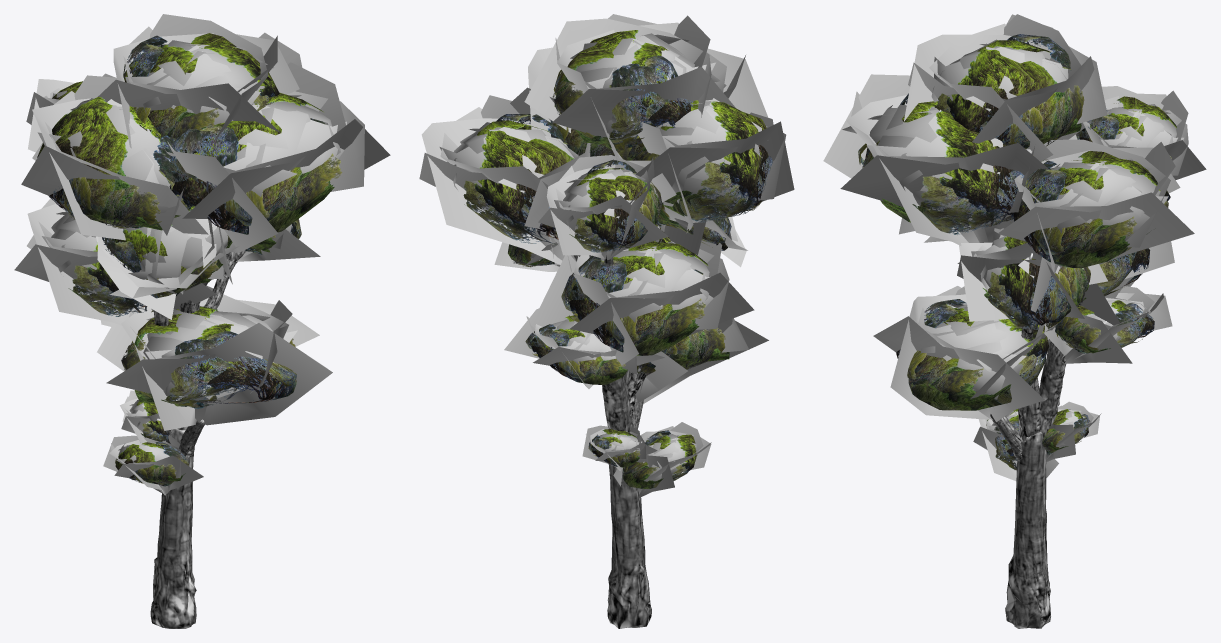
The model's file is ETP_TreePinus_00_OP.fbx.
3 views of the same model, side by side, from view 1: azimuth 30°, elevation 25°; view 2: azimuth 150°, elevation 25°; view 3: azimuth 270°, elevation 25° (orthographic). The views are drawn at different scales.
Visible parts, largest first — view 1: ETP_TreePinus_00_LOD00; view 2: ETP_TreePinus_00_LOD00; view 3: ETP_TreePinus_00_LOD00.
Boxes of the visible parts, bbox=[...] form: ETP_TreePinus_00_LOD00: bbox=[14, 14, 390, 628]; ETP_TreePinus_00_LOD00: bbox=[419, 14, 794, 628]; ETP_TreePinus_00_LOD00: bbox=[823, 14, 1206, 628].
Size of what is drawn, in the model's own units: 1733 by 3072 by 1838.
